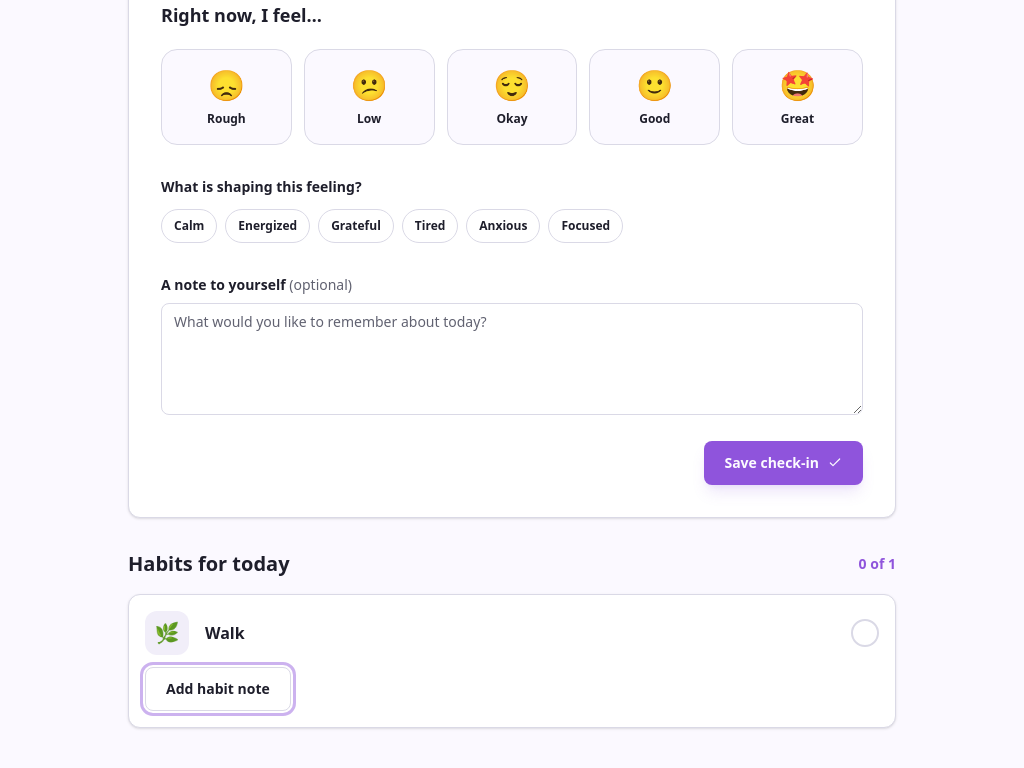
Test: opens the note editor via the keyboard and saves with an explicit completion state
The width and height of the screenshot is (1024, 768).
(page scrolled)
Press Enter
(page scrolled)
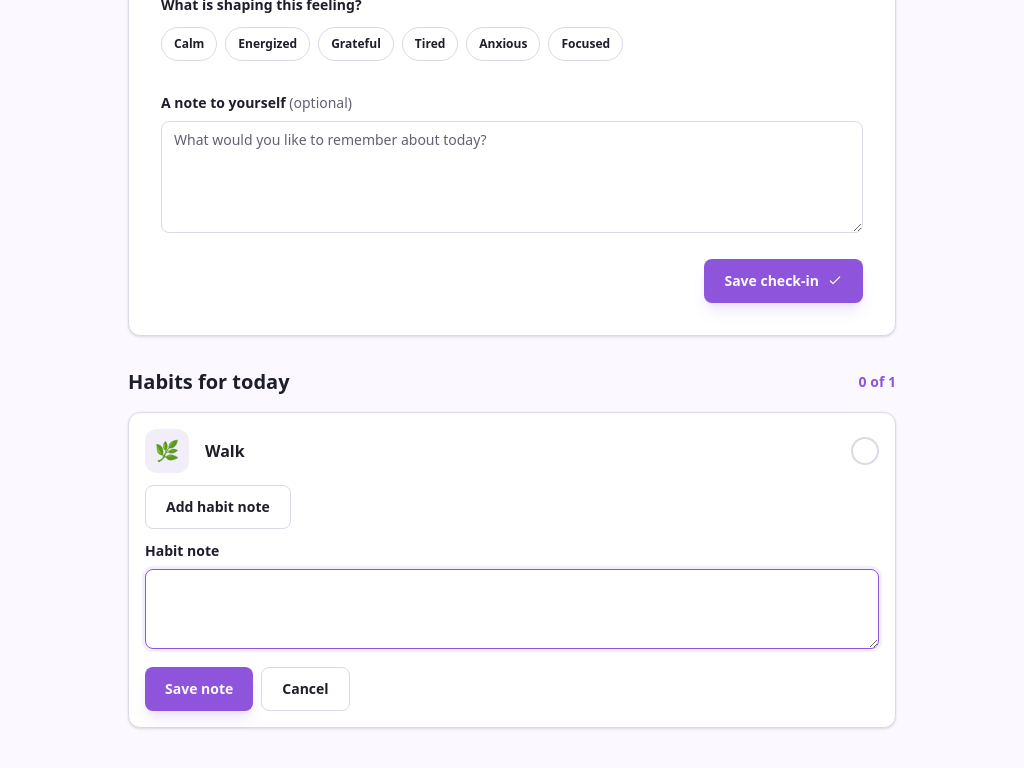
Type "  One page  " into the text box labelled "Habit note". click: (512, 609)
box: [145,569,879,649]
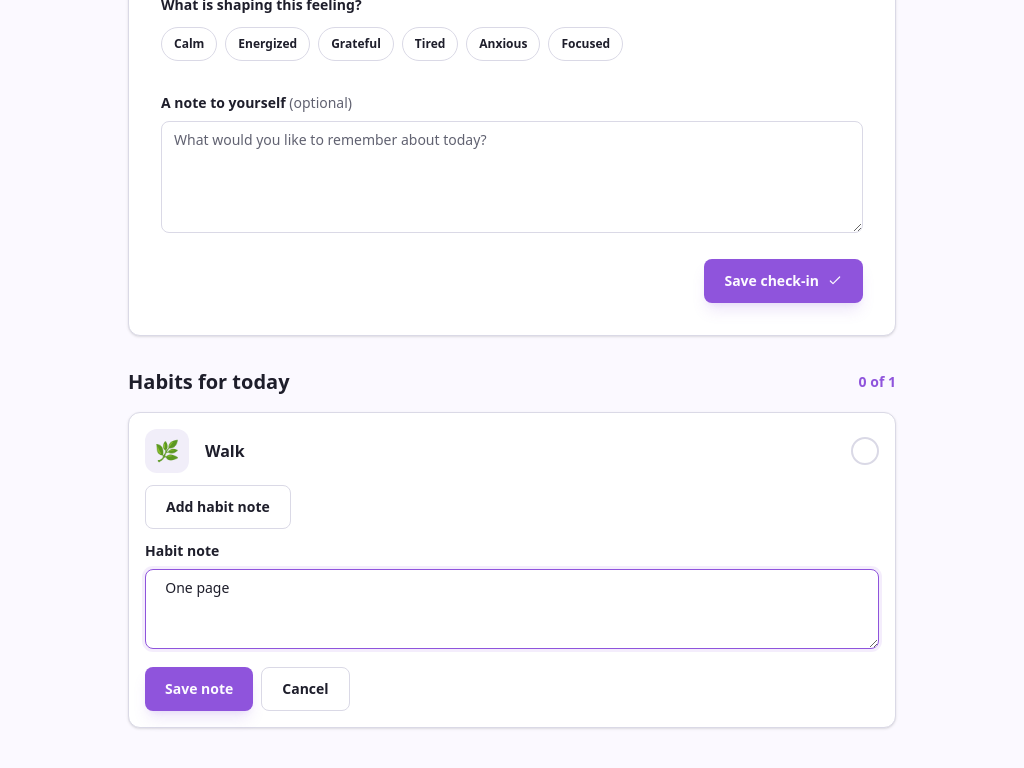
Click the button "Save note". click: (199, 689)
box: [145,667,253,711]
(page scrolled)
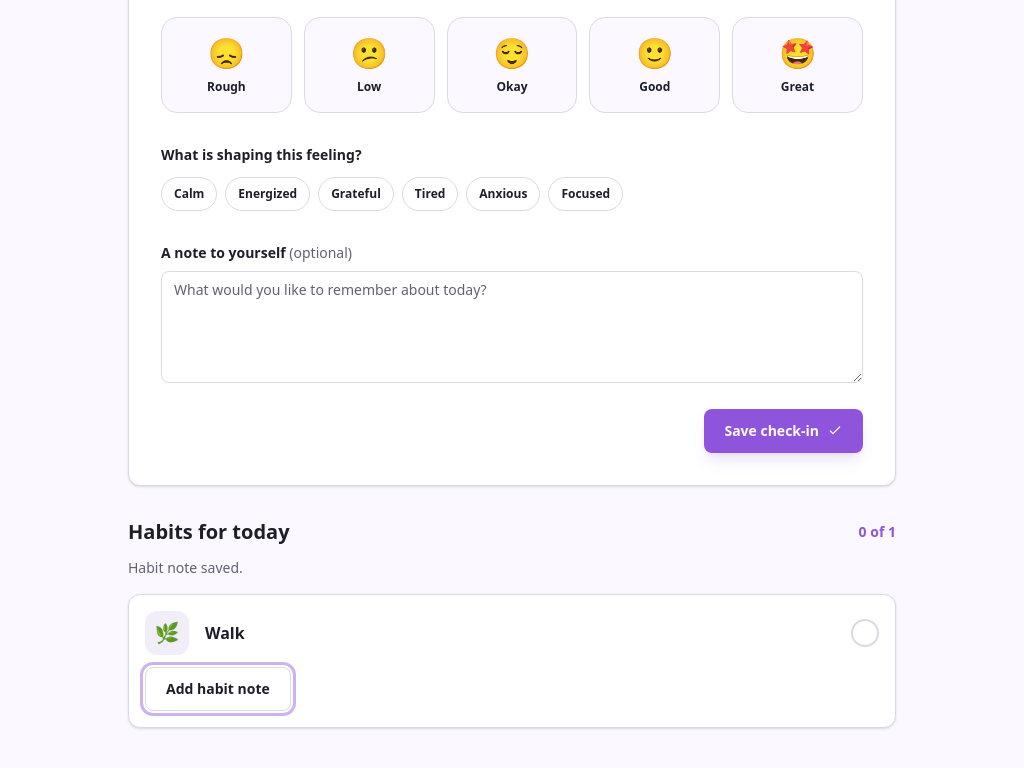
Result: the text "Habit note saved." is shown at [128,558,243,577]
